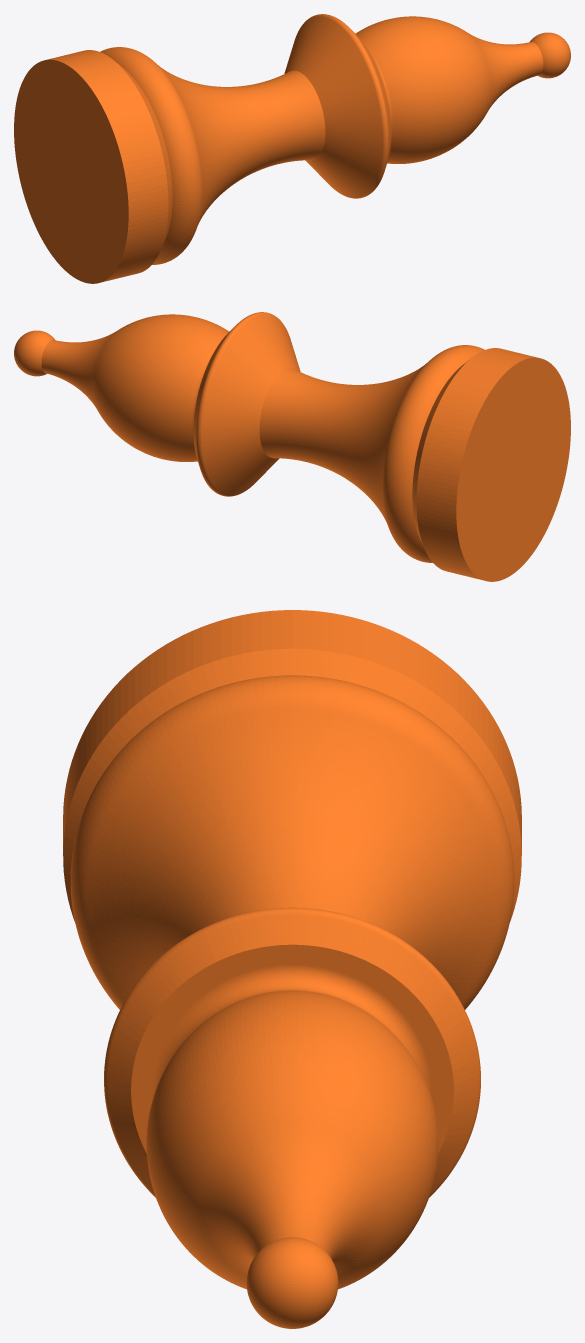
File: latheBishop.glb
The picture shows the model from 3 angles, top to bottom: view 1: azimuth 30°, elevation 25°; view 2: azimuth 150°, elevation 25°; view 3: azimuth 270°, elevation 25°; orthographic projection. The views are drawn at different scales.
Visible parts, largest first — view 1: node_id5; view 2: node_id5; view 3: node_id5.
Part boxes in pixels (x1=…): node_id5: x1=14, y1=14, x2=570, y2=283; node_id5: x1=14, y1=312, x2=570, y2=581; node_id5: x1=63, y1=610, x2=521, y2=1328.
Size of the model in its own units: 64 by 25.6 by 25.6.
Materials: 1 (1 with a texture image).
